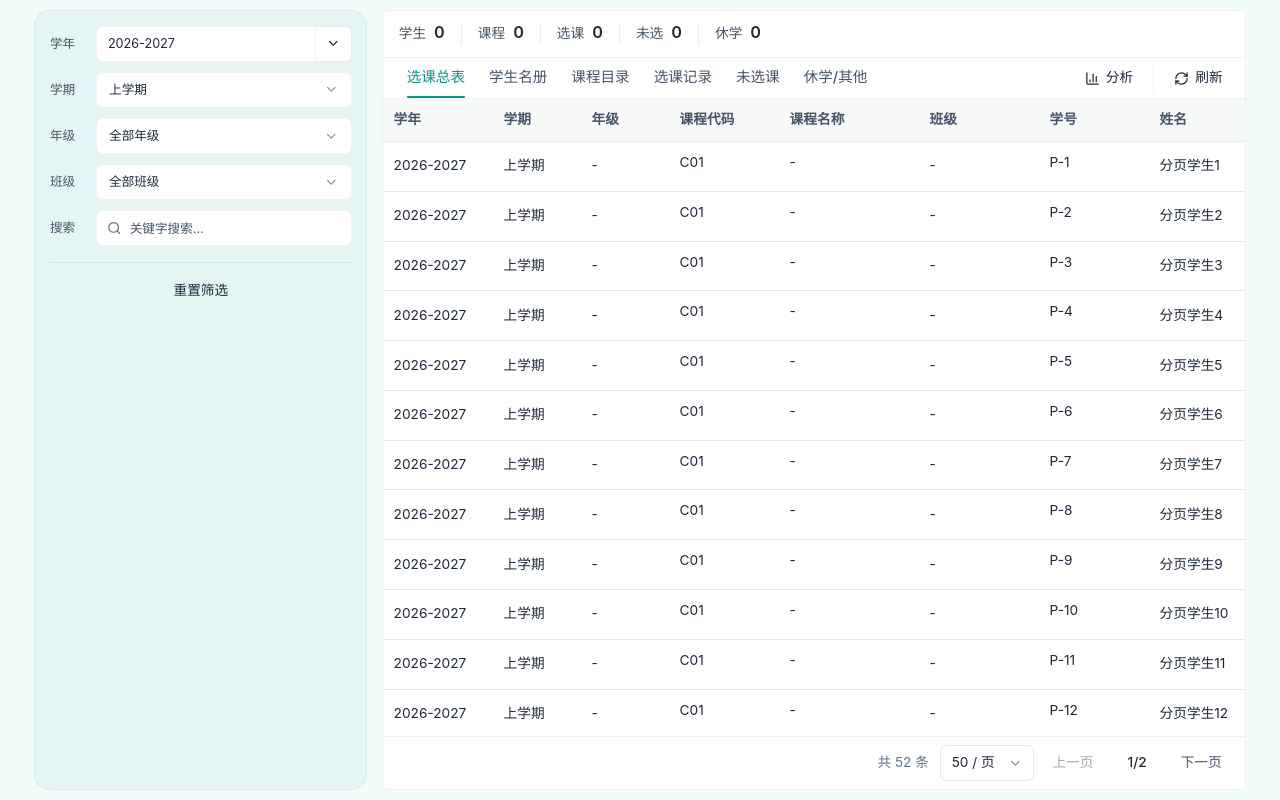
Test case: XBK permissions and paging guards › clamps the page back to the last page when the total shrinks
expect the text "分页学生1" is shown: met, box [1149,142,1244,191]
Click the button "下一页".
click(1201, 763)  # box [1170,745,1233,781]
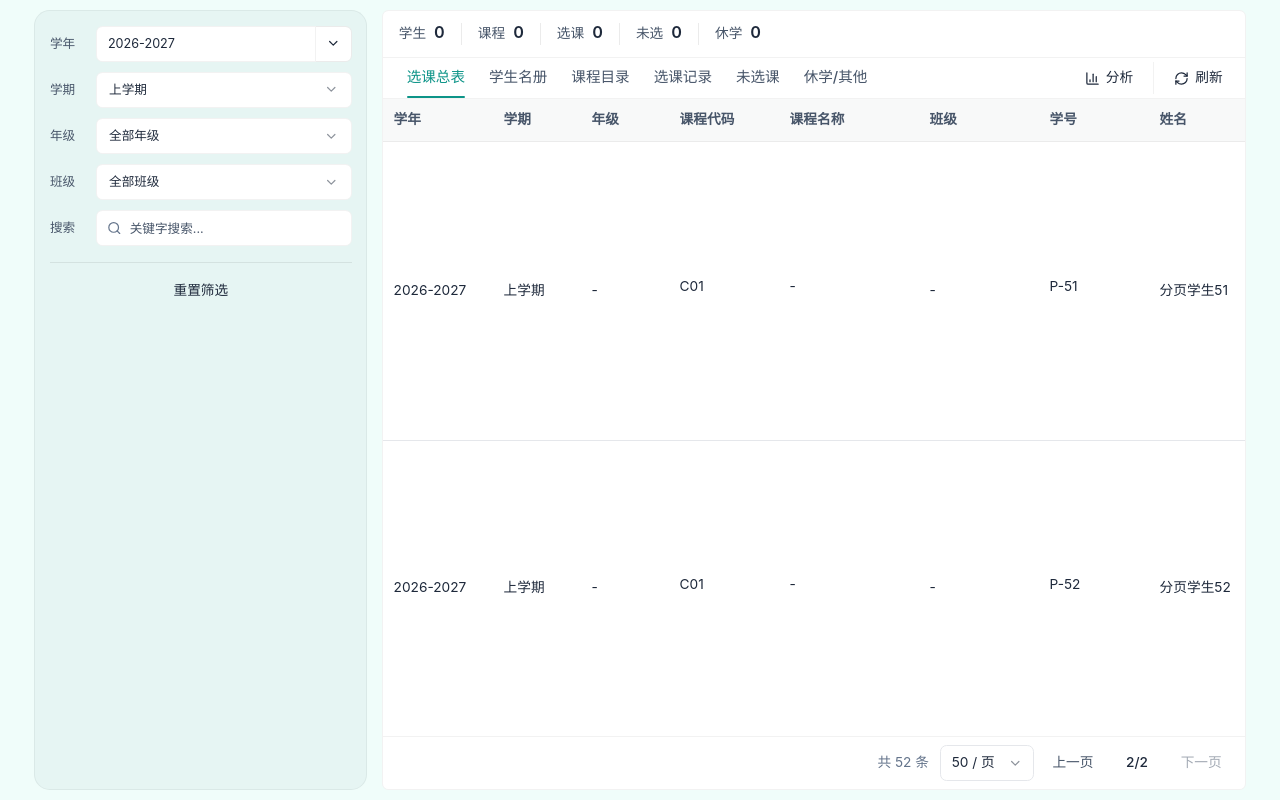
expect the text "分页学生52" is shown: met, box [1149,440,1244,736]
expect the text "2/2" is shown: met, box [1126,754,1148,770]
Click the button "刷新".
click(1198, 78)  # box [1164,62,1232,94]
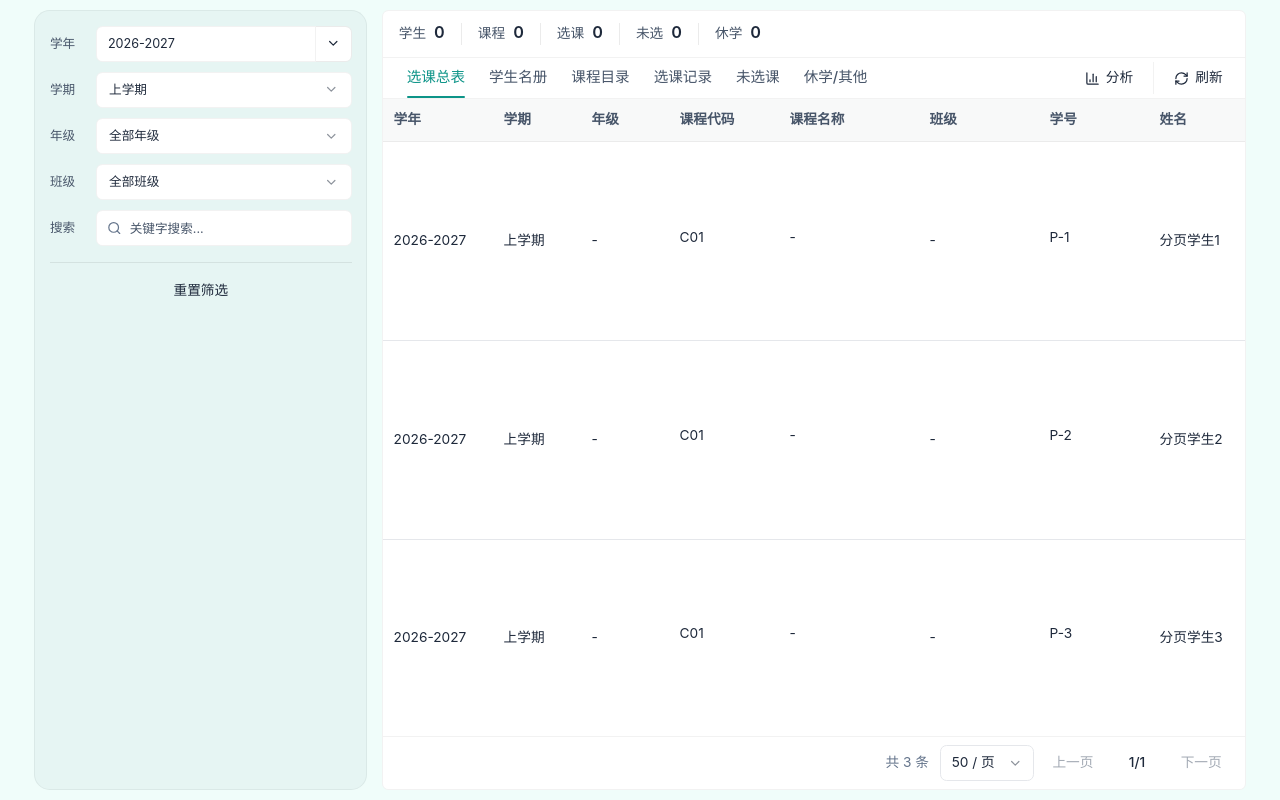
expect the text "1/1" is shown: met, box [1129,754,1145,770]
expect the text "分页学生1" is shown: met, box [1149,142,1244,340]
